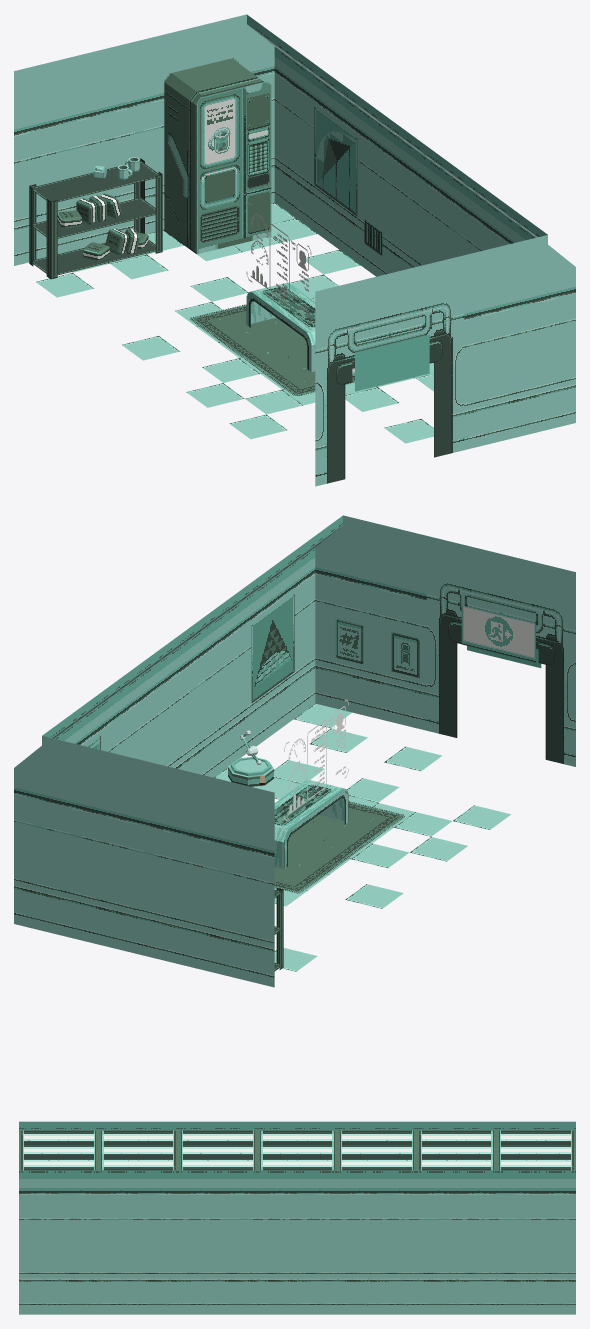
File: aster-sim-room-hi-res.gltf
The picture shows the model from 3 angles, top to bottom: view 1: azimuth 30°, elevation 25°; view 2: azimuth 150°, elevation 25°; view 3: azimuth 270°, elevation 25°; orthographic projection. The views are drawn at different scales.
Parts seen in each view (by area): view 1: Room, drink_machine, Shelf, Rug, Desk, Painting 1; view 2: Room, Rug, Desk, Painting 2, glass_bead_game, Award 2, Award 1, Shelf; view 3: Room.
Boxes of the visible parts, x1=… form: Room: x1=14, y1=14, x2=575, y2=486; drink_machine: x1=164, y1=58, x2=271, y2=254; Shelf: x1=29, y1=158, x2=162, y2=279; Rug: x1=190, y1=304, x2=354, y2=395; Desk: x1=246, y1=202, x2=315, y2=371; Painting 1: x1=314, y1=107, x2=357, y2=215; Room: x1=14, y1=515, x2=575, y2=987; Rug: x1=274, y1=801, x2=404, y2=893; Desk: x1=274, y1=699, x2=348, y2=869; Painting 2: x1=251, y1=594, x2=294, y2=702; glass_bead_game: x1=228, y1=730, x2=273, y2=786; Award 2: x1=391, y1=632, x2=419, y2=677; Award 1: x1=335, y1=618, x2=363, y2=664; Shelf: x1=274, y1=888, x2=283, y2=971; Room: x1=19, y1=1121, x2=575, y2=1314.
Size of the model in its own units: 7 by 5.01 by 14.12.
8 materials, 8 textured.
